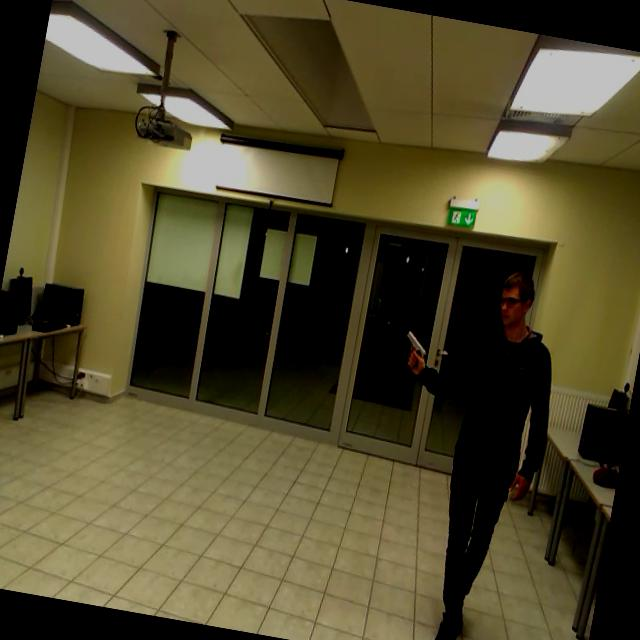handgun: (391, 324, 438, 382)
